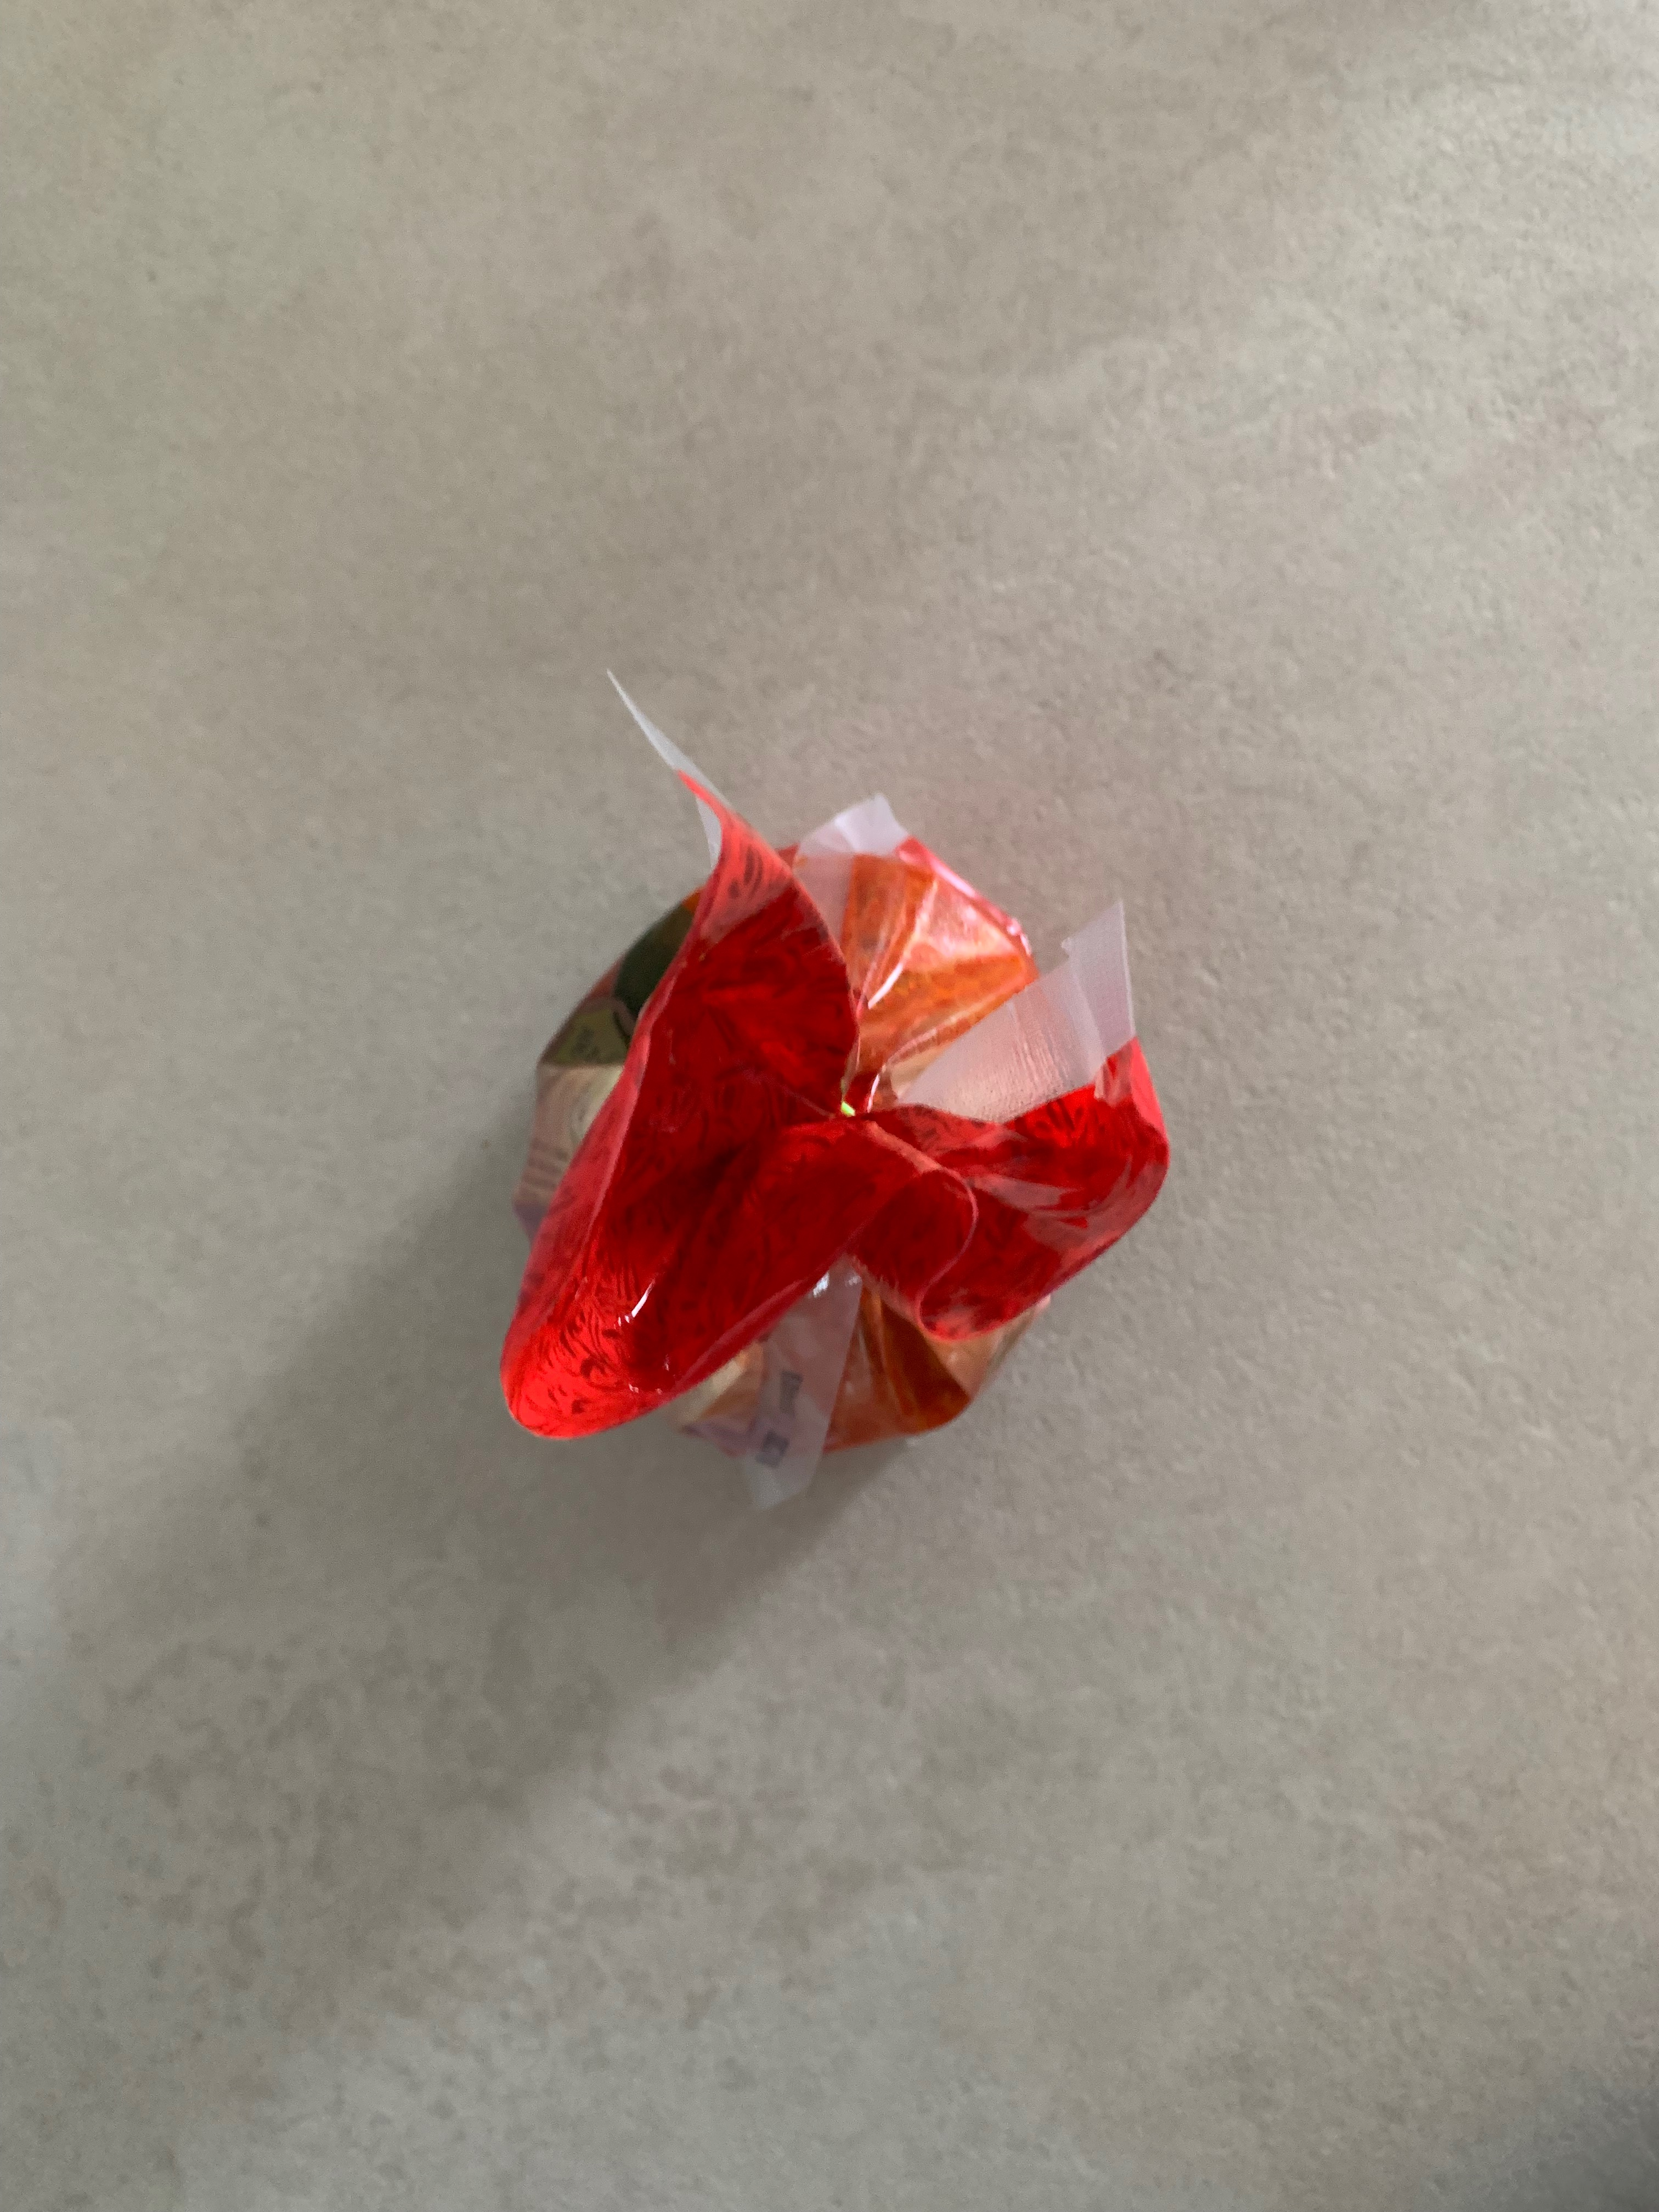kimchi: (495, 834, 1169, 1454)
